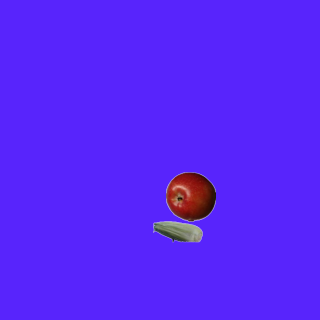Apple Braeburn: (165, 171, 215, 221)
Corn Husk: (152, 206, 202, 256)
